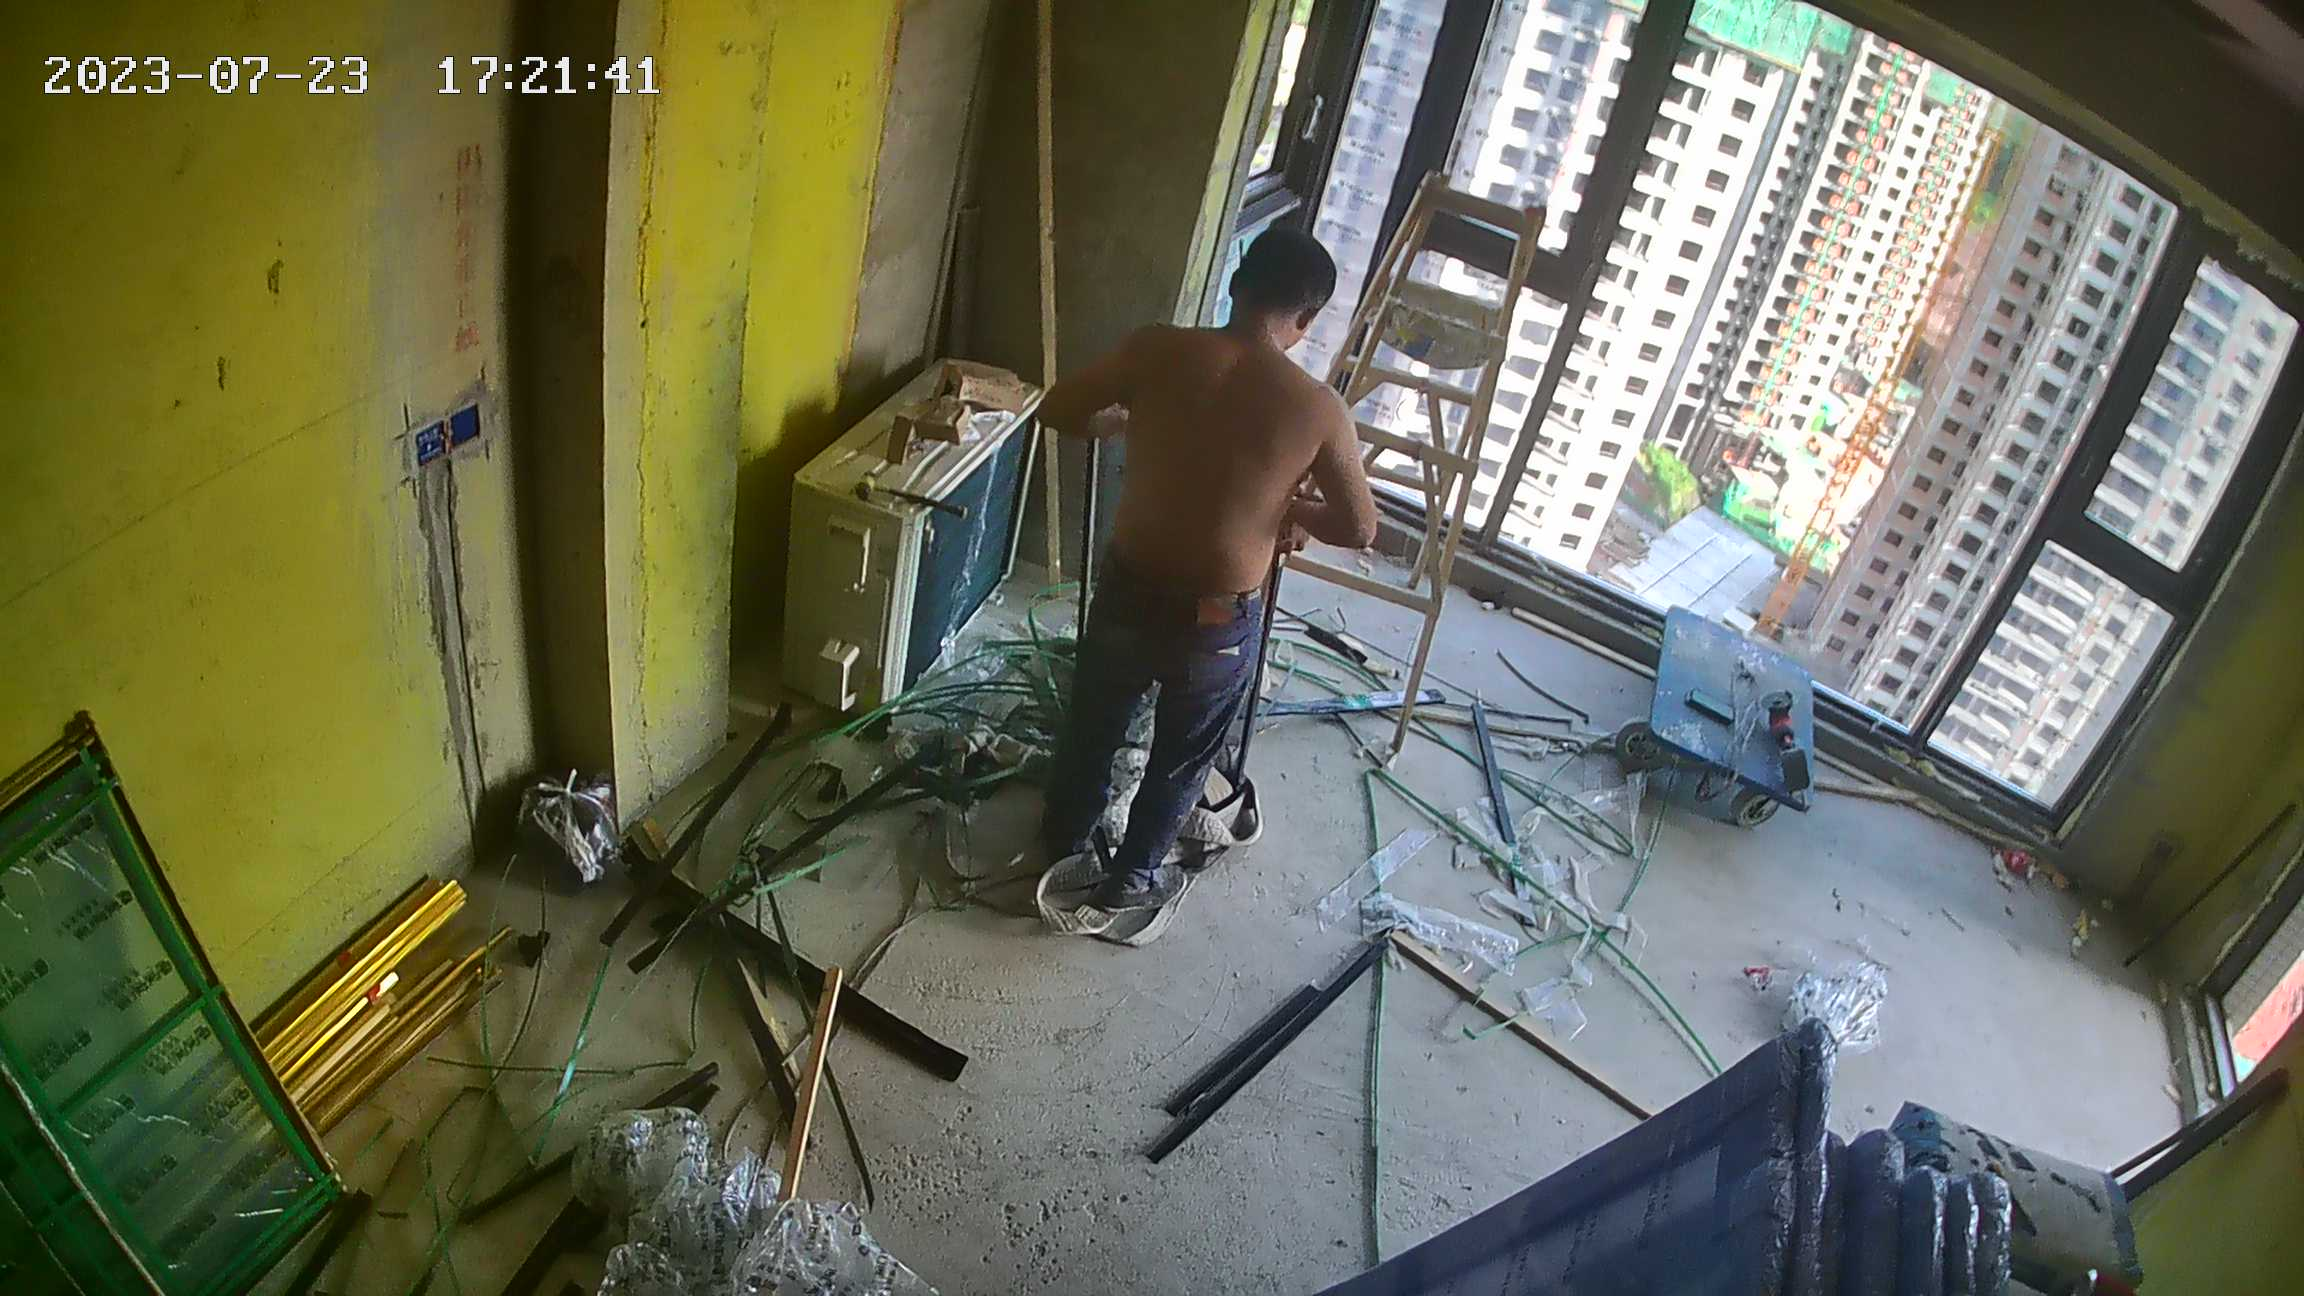people: (1034, 226, 1379, 915)
window: (1273, 5, 2283, 829)
